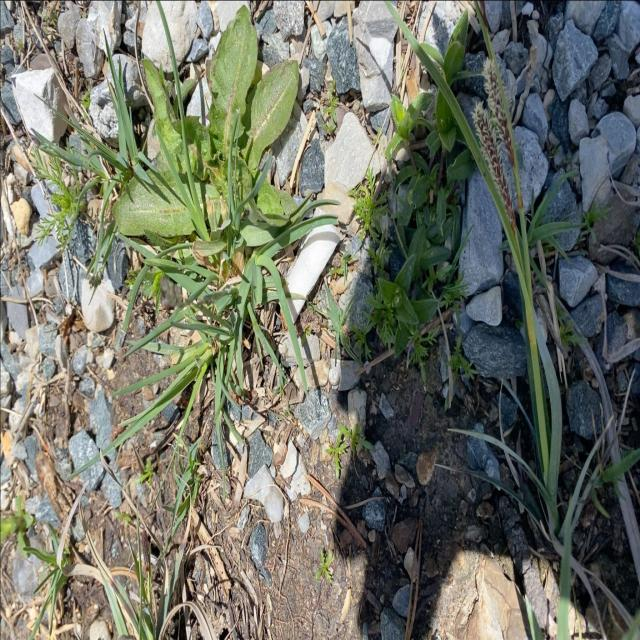other waste: (276, 205, 340, 328)
